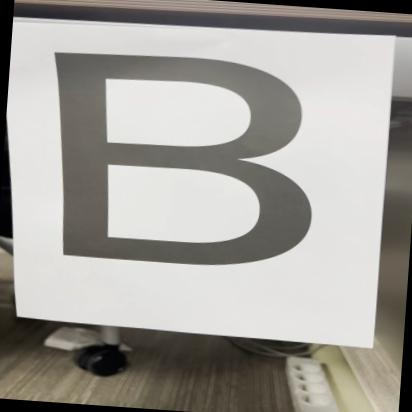seat: (20, 35, 346, 284)
